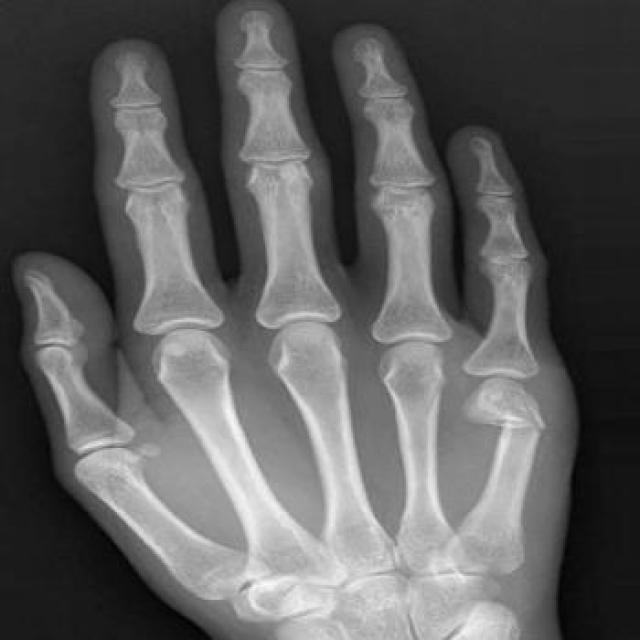Fracture: (454, 405, 560, 440)
